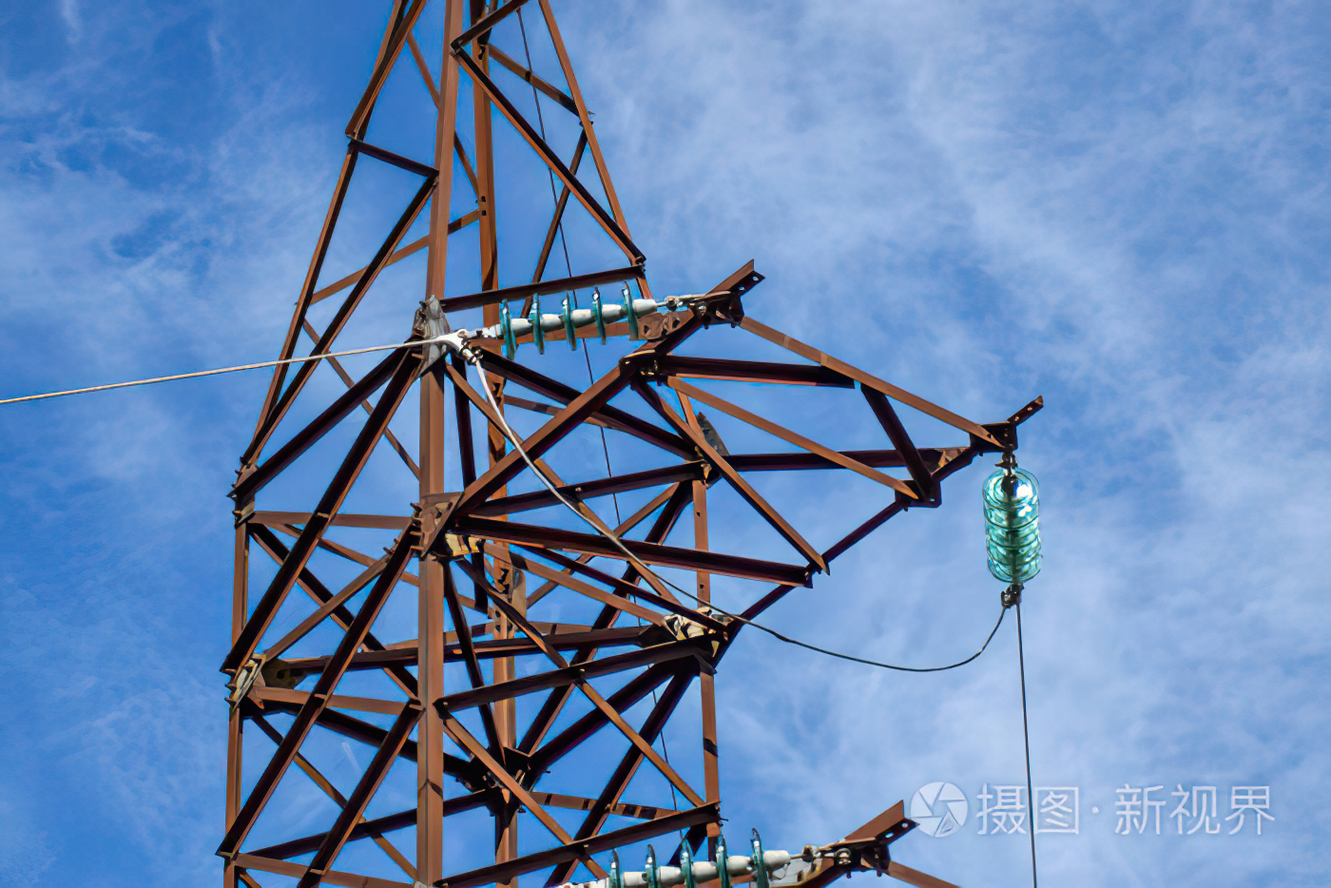insulator: (603, 825, 776, 888), (498, 280, 640, 356), (978, 468, 1047, 583)
